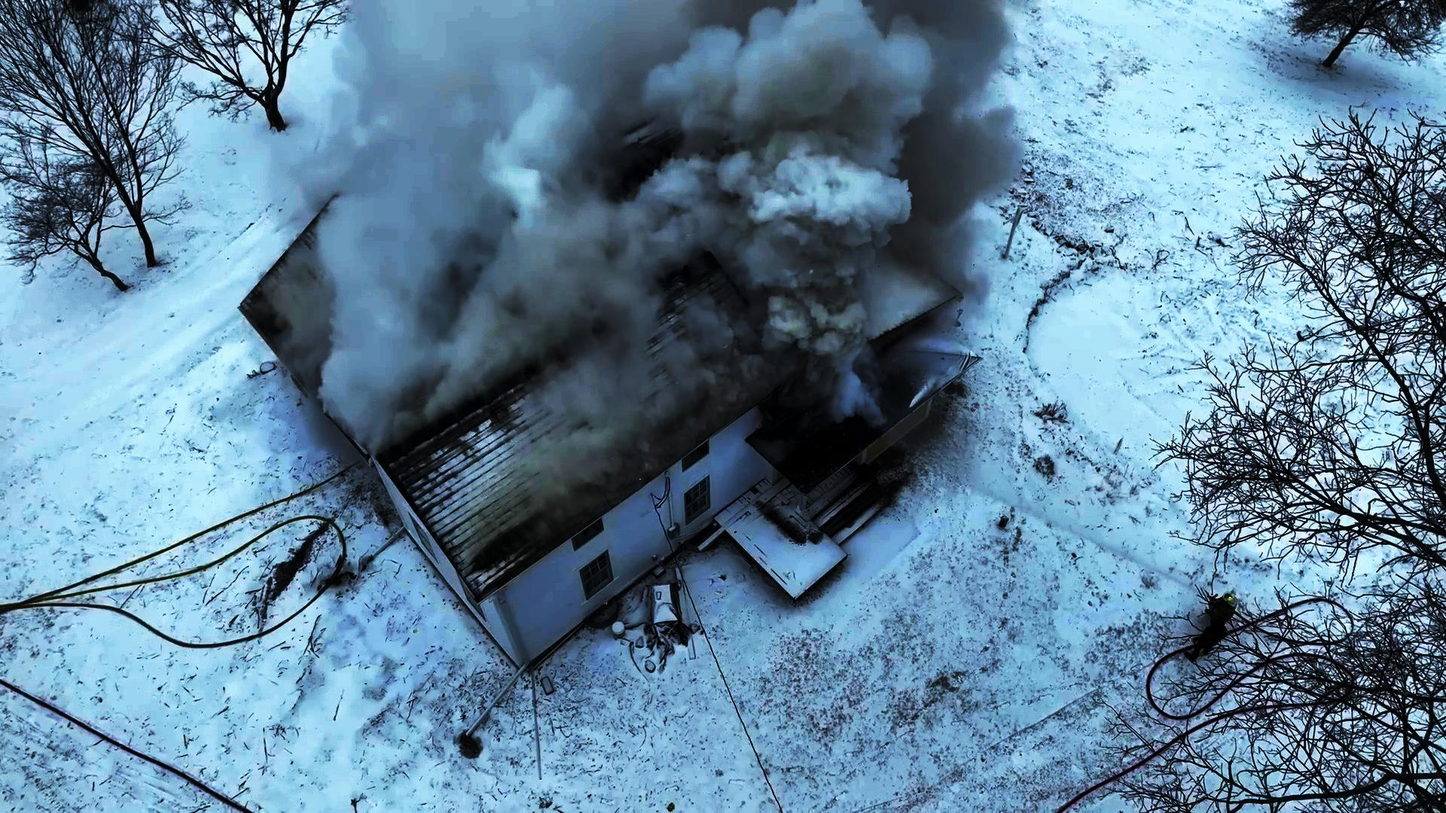smoke: (727, 47, 880, 431)
